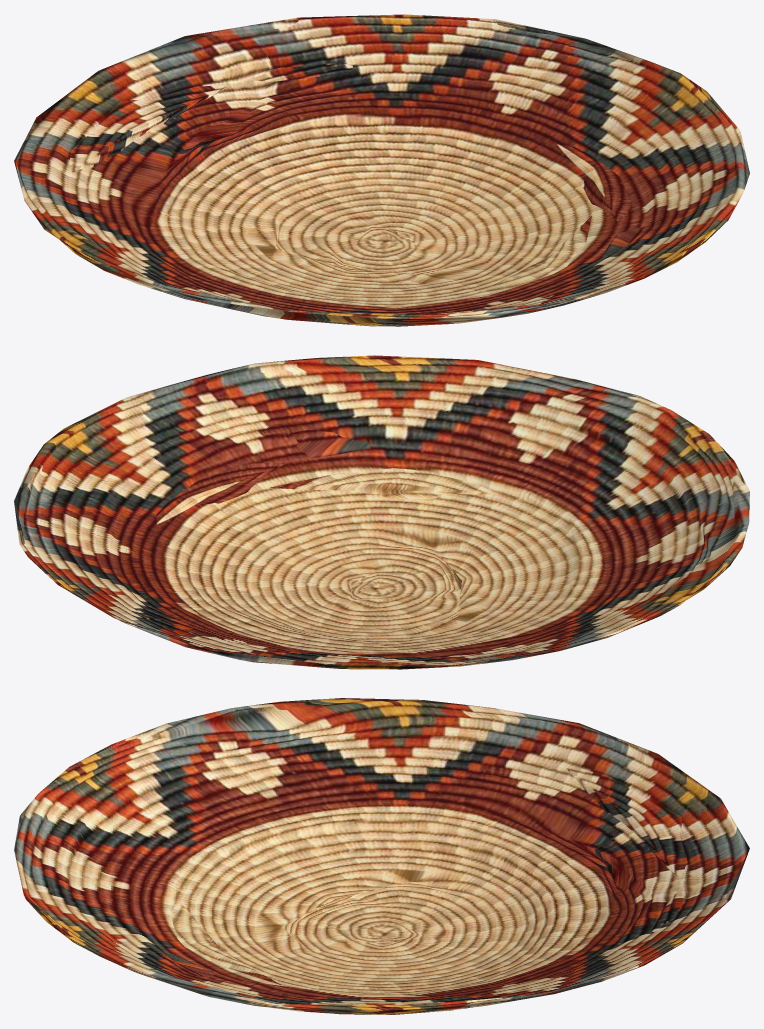
Rendered from Multicolor Diamond Medallion Basket.fbx.
3 renders of one model, top to bottom at view 1: azimuth 30°, elevation 25°; view 2: azimuth 150°, elevation 25°; view 3: azimuth 270°, elevation 25°, orthographic.
Parts seen in each view (by area): view 1: Multicolor Diamond Medallion Basket; view 2: Multicolor Diamond Medallion Basket; view 3: Multicolor Diamond Medallion Basket.
Part boxes in pixels (x1,y1,x2,y2): Multicolor Diamond Medallion Basket: (14, 14, 749, 326); Multicolor Diamond Medallion Basket: (14, 355, 749, 669); Multicolor Diamond Medallion Basket: (14, 698, 749, 1014).
Bounding box in the file's own units: 37.52 × 4.9 × 37.38.
Materials: 1 (1 with a texture image).
